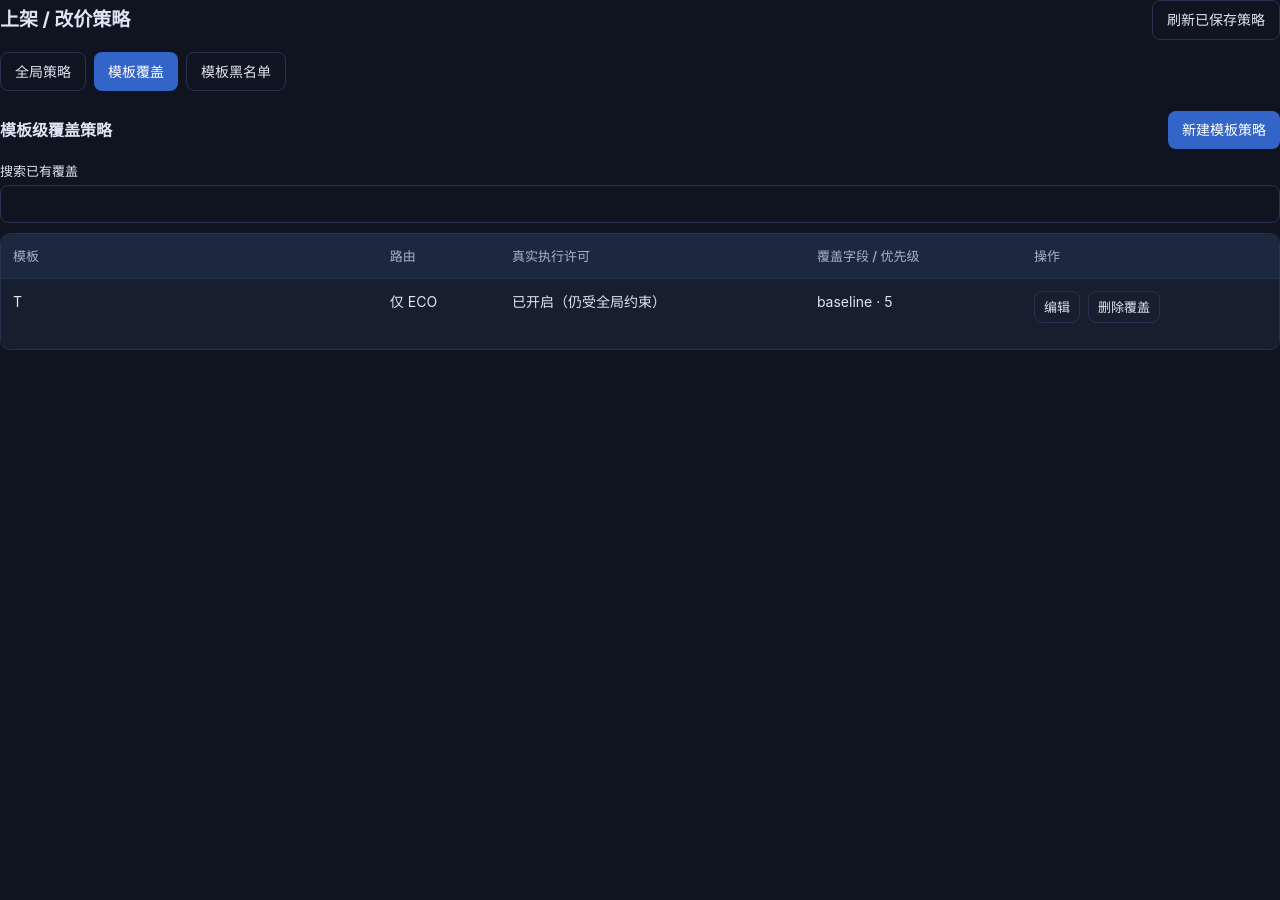
Scenario: sparse template overrides › removes parameter overrides with 恢复继承 k1 短租基线系数 without changing independent settings
Click the button "编辑" at x=1057, y=307, box 1034,291 -> 1080,323
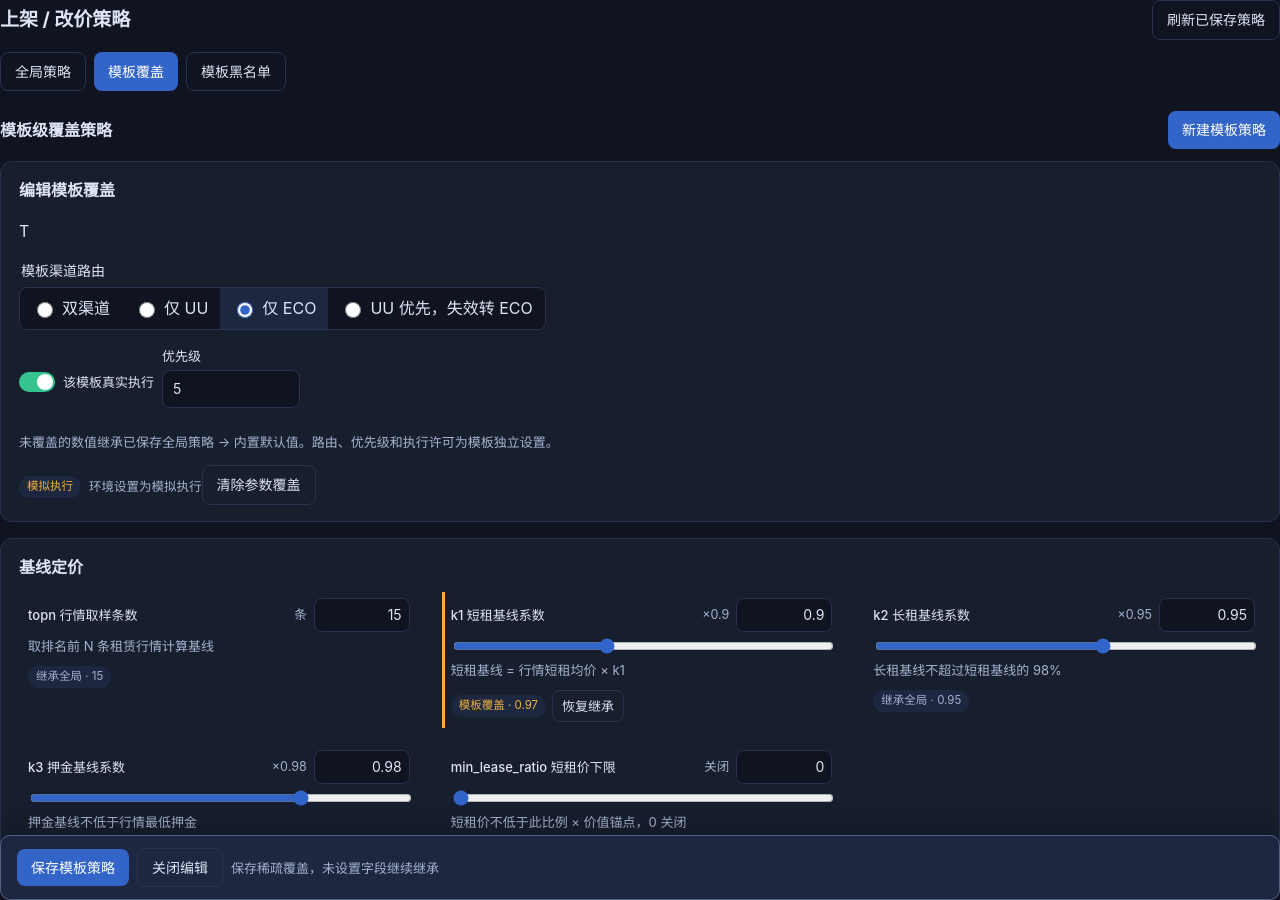
Click the button with aria-label "恢复继承 k1 短租基线系数" at x=588, y=706, box 552,690 -> 624,722
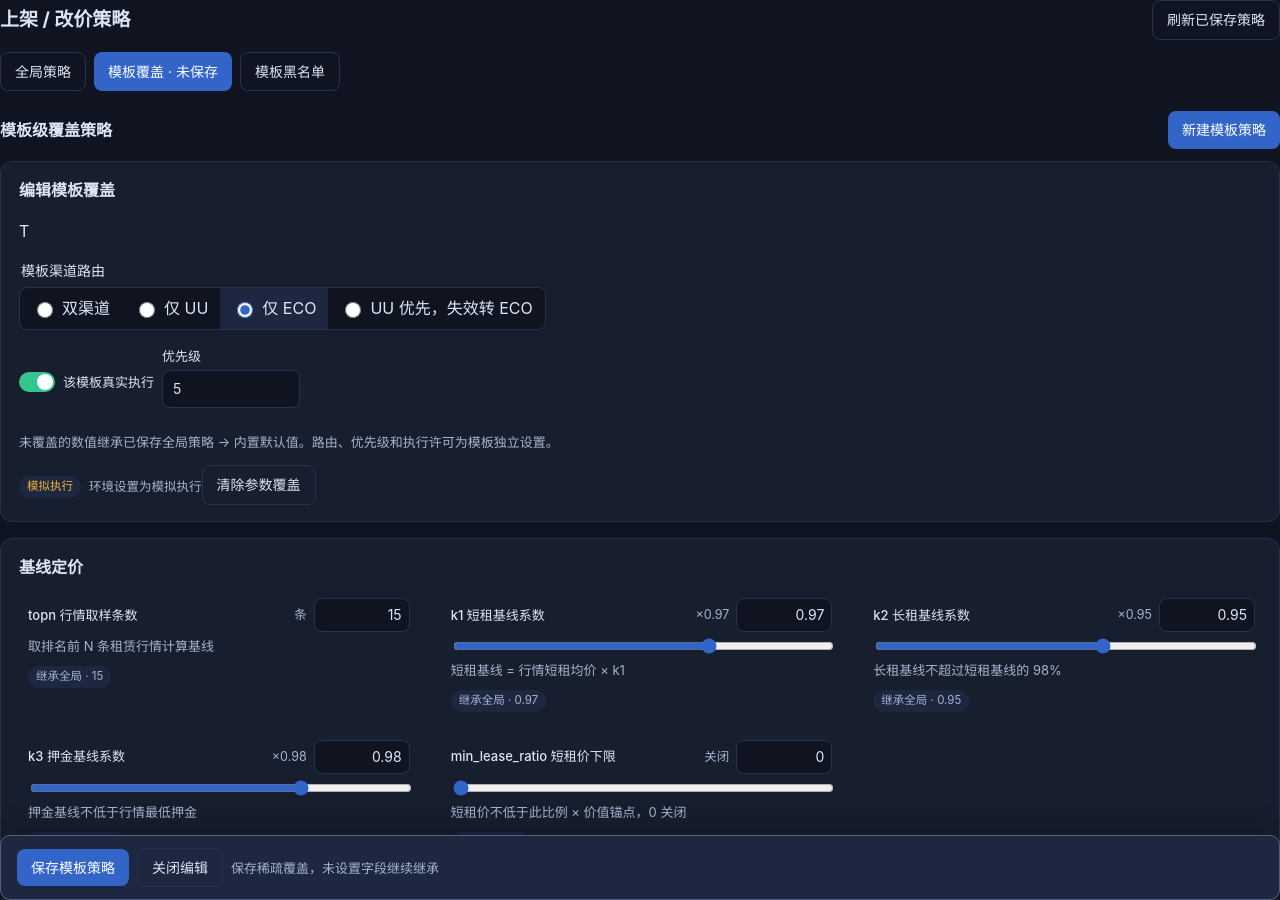
Now the number field named "k1 短租基线系数数值" holds "0.97", box 736,598 -> 832,632
Click the button "保存模板策略" at x=73, y=867, box 17,848 -> 129,886
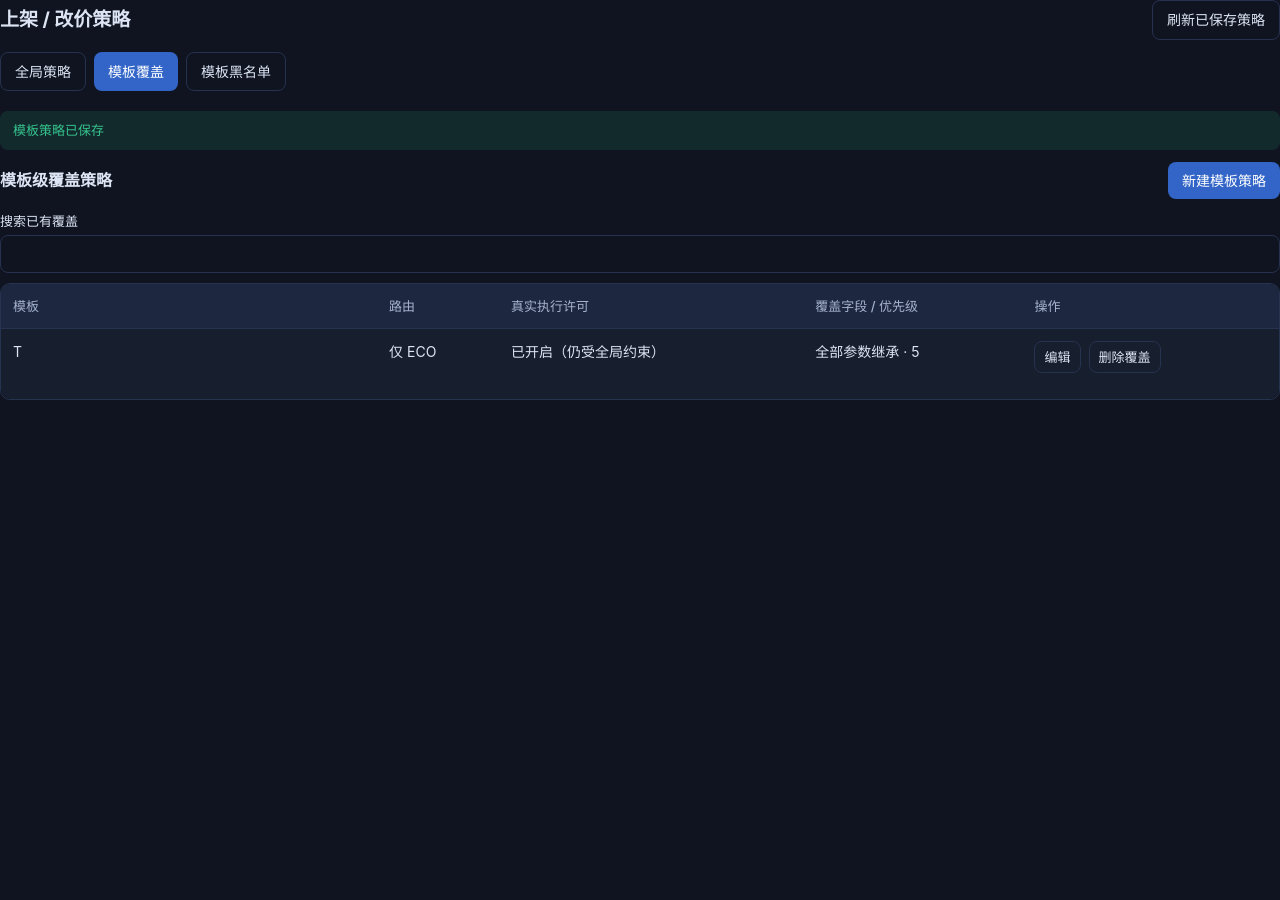
Now the text "模板策略已保存" is shown, box 0,111 -> 1279,150
